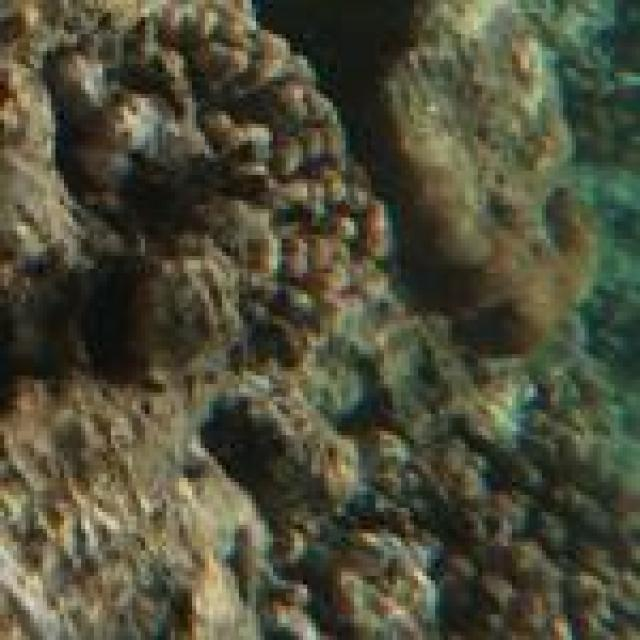Dead Coral: (0, 0, 382, 388), (398, 412, 640, 640)
